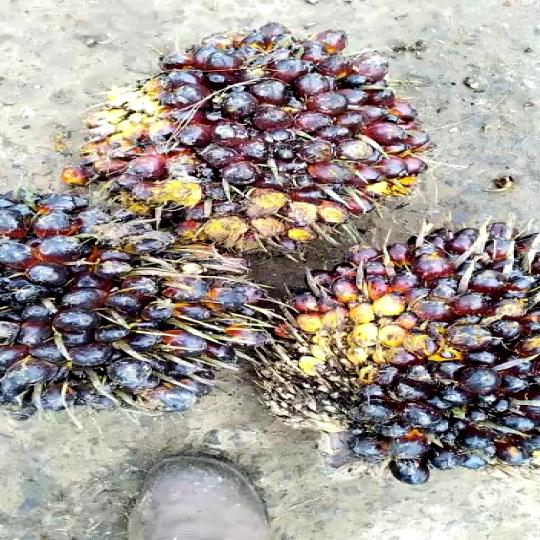mentah: (68, 17, 426, 256), (266, 208, 540, 480), (0, 186, 264, 417)
